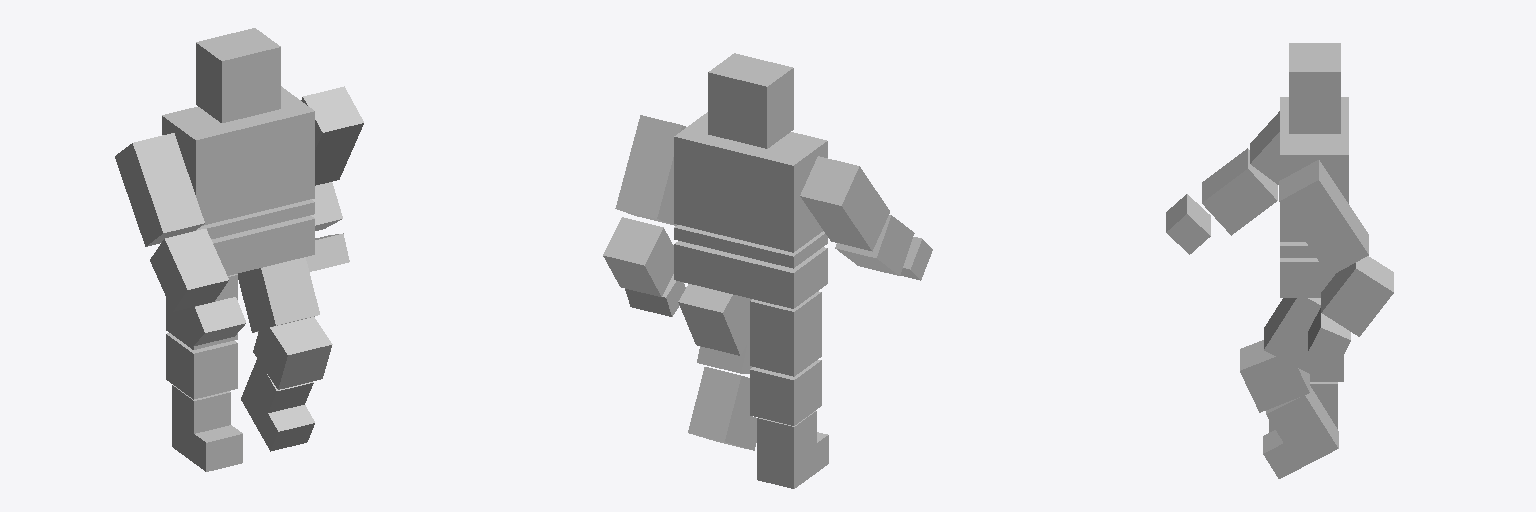
Rendered from POne1.obj.
3 renders of one model, left to right at view 1: azimuth 30°, elevation 25°; view 2: azimuth 150°, elevation 25°; view 3: azimuth 270°, elevation 25°, orthographic.
Size of the model in its own units: 3.64 by 6.39 by 3.33.